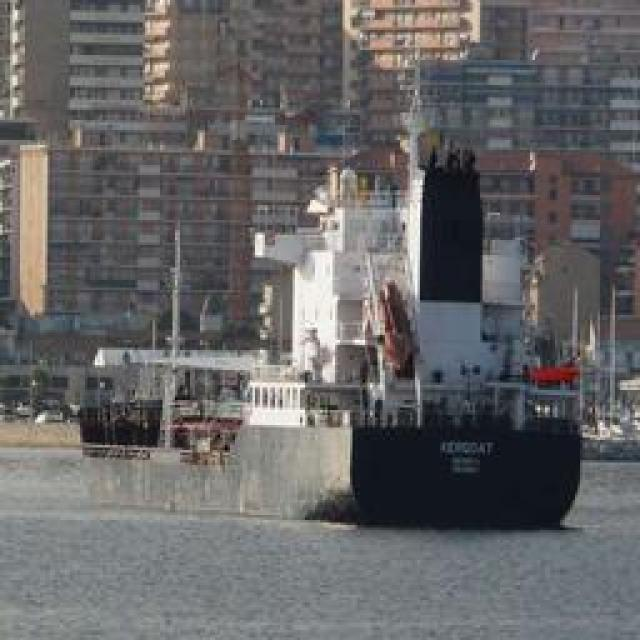CIV_Ship: (320, 108, 592, 528)
